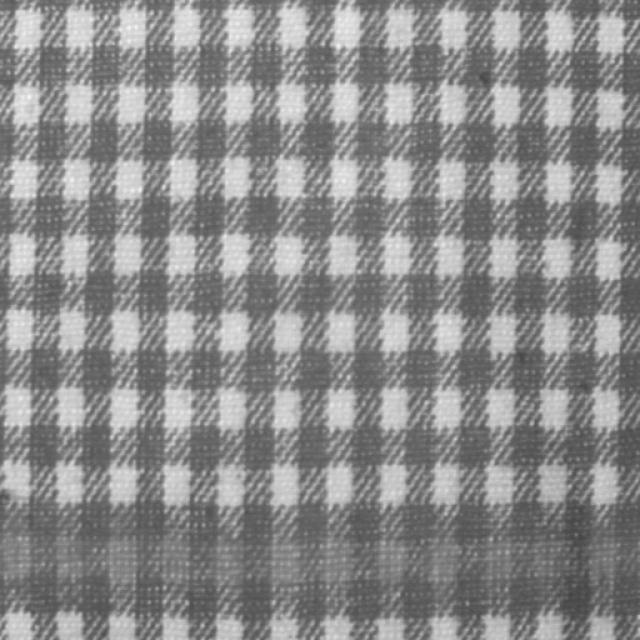Stain-Defect: (0, 528, 639, 585)
